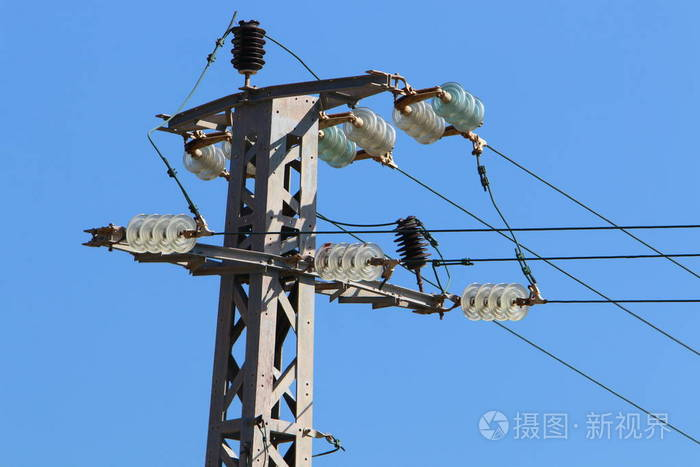insulator: (314, 241, 383, 285), (122, 213, 193, 254), (458, 279, 527, 320), (346, 106, 397, 157), (434, 82, 485, 132), (392, 99, 444, 143), (313, 126, 356, 169), (231, 26, 267, 71), (183, 145, 226, 182), (395, 226, 431, 267)
